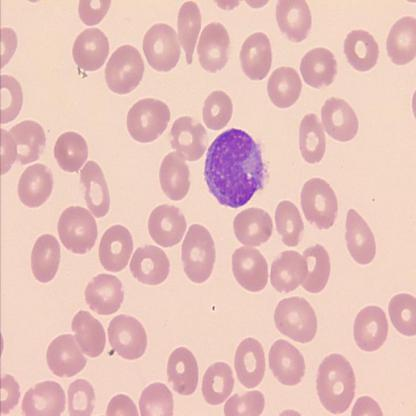Monocyte: (201, 126, 269, 210)
